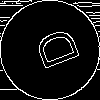D: (25, 25, 81, 75)
